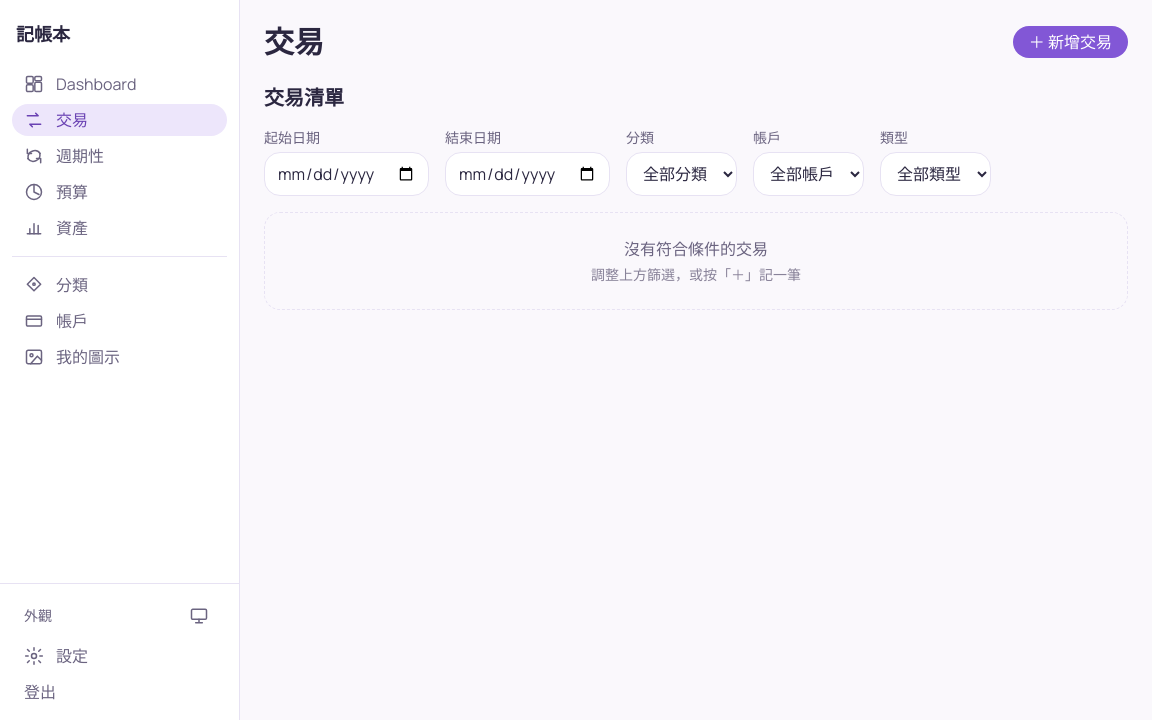
TransactionsPage › 點桌機「＋ 新增交易」按鈕開啟新增表單
This screenshot has width=1152, height=720.
Click the button "＋ 新增交易" at (1070, 42), box [1013, 26, 1128, 58]
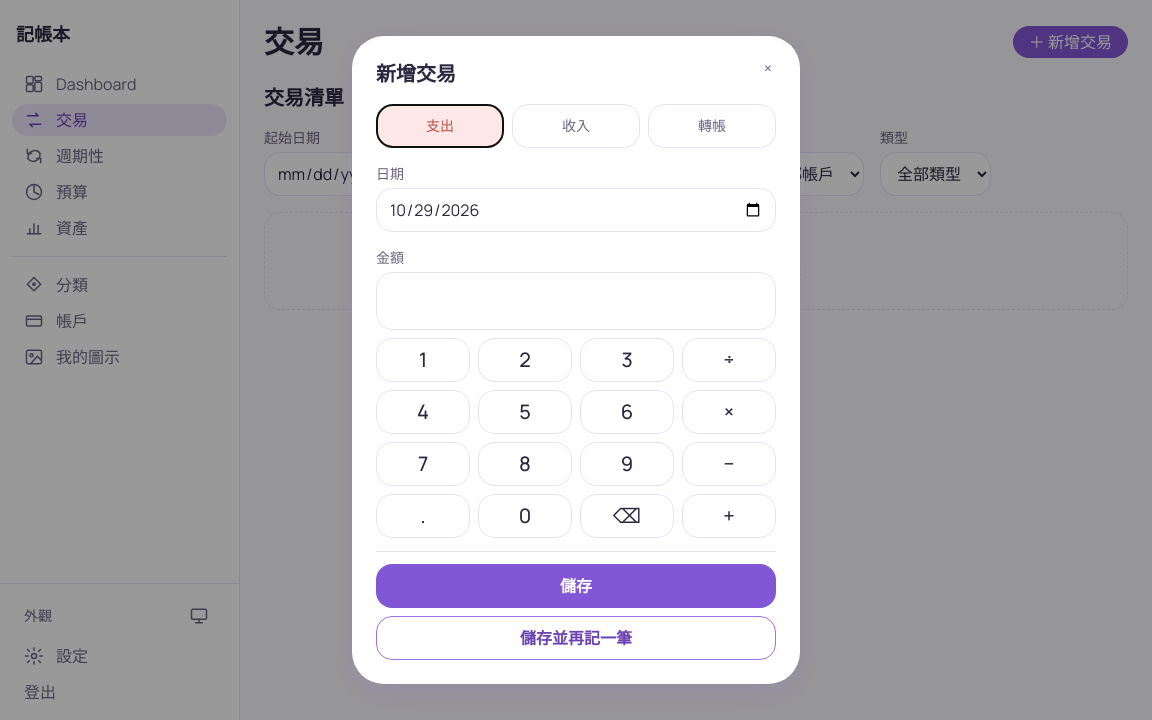
Now the dialog is shown, box [352, 36, 800, 684]
Now the heading "新增交易" is shown, box [376, 60, 456, 87]
